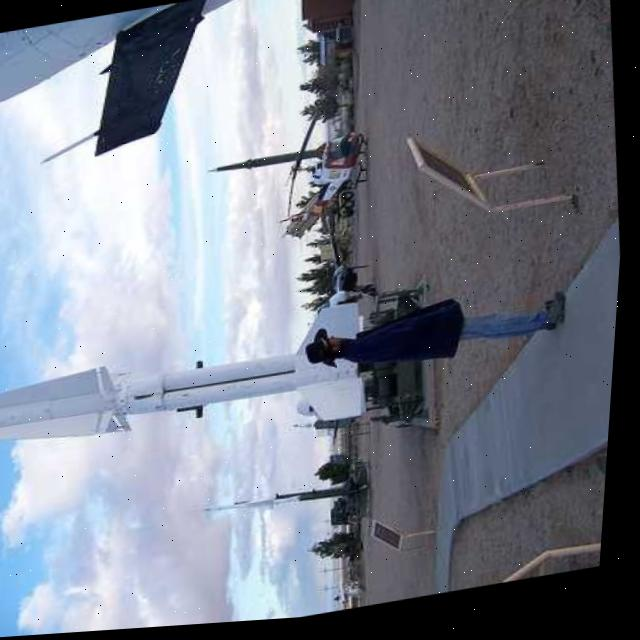missile: (0, 294, 385, 481)
